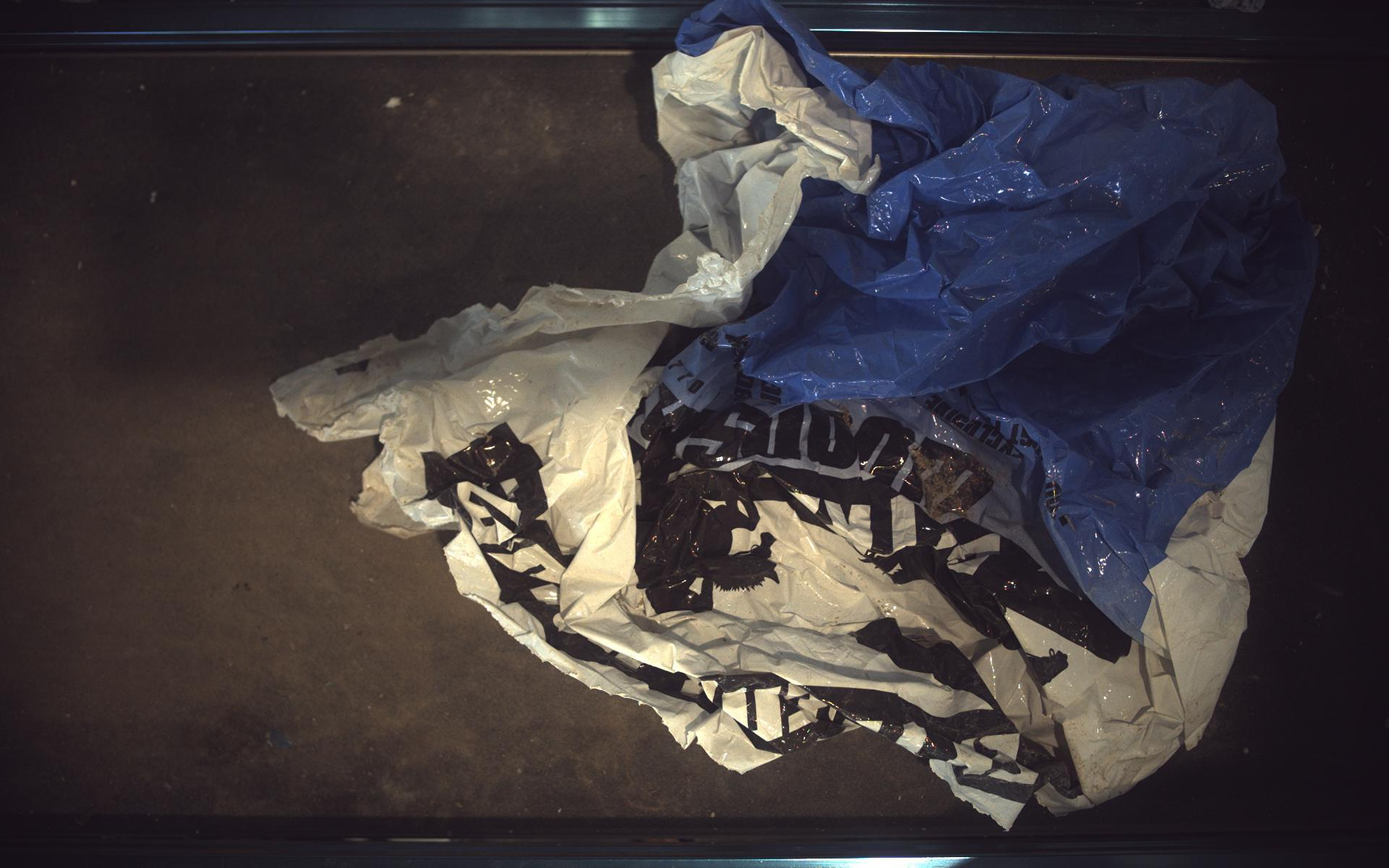general_w: (272, 1, 1317, 829)
